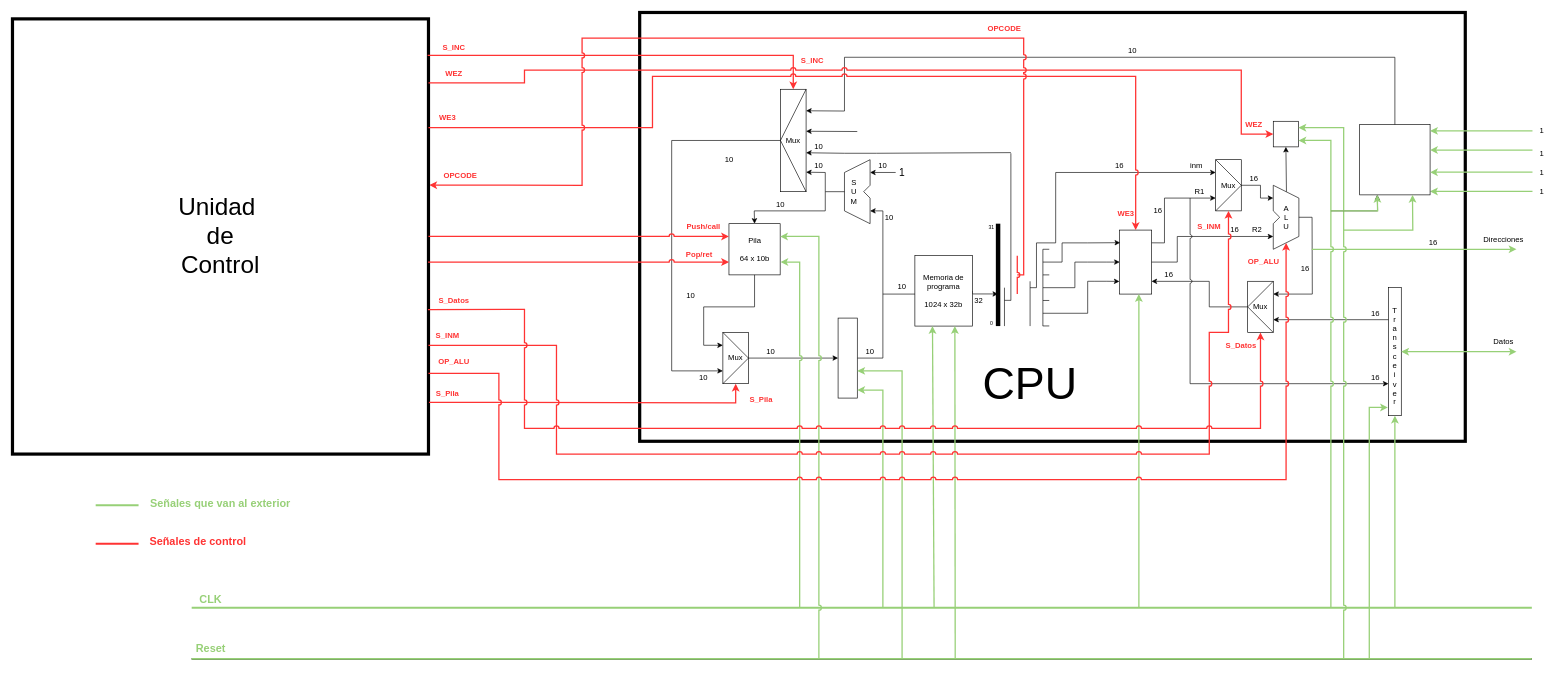
Some shapes in this 1560 by 676 pixel diagram are drawn without their labels. The shapes that lost their labels are listed below. From the top down, each one's box as (x1, y1, x2, y2) in pixels, then its label:
(1273, 121, 1298, 147): FFZ
(1359, 124, 1430, 195): Gestor de interruciones
(1119, 229, 1152, 294): Banco Registros 16x16b
(837, 317, 857, 398): PC
